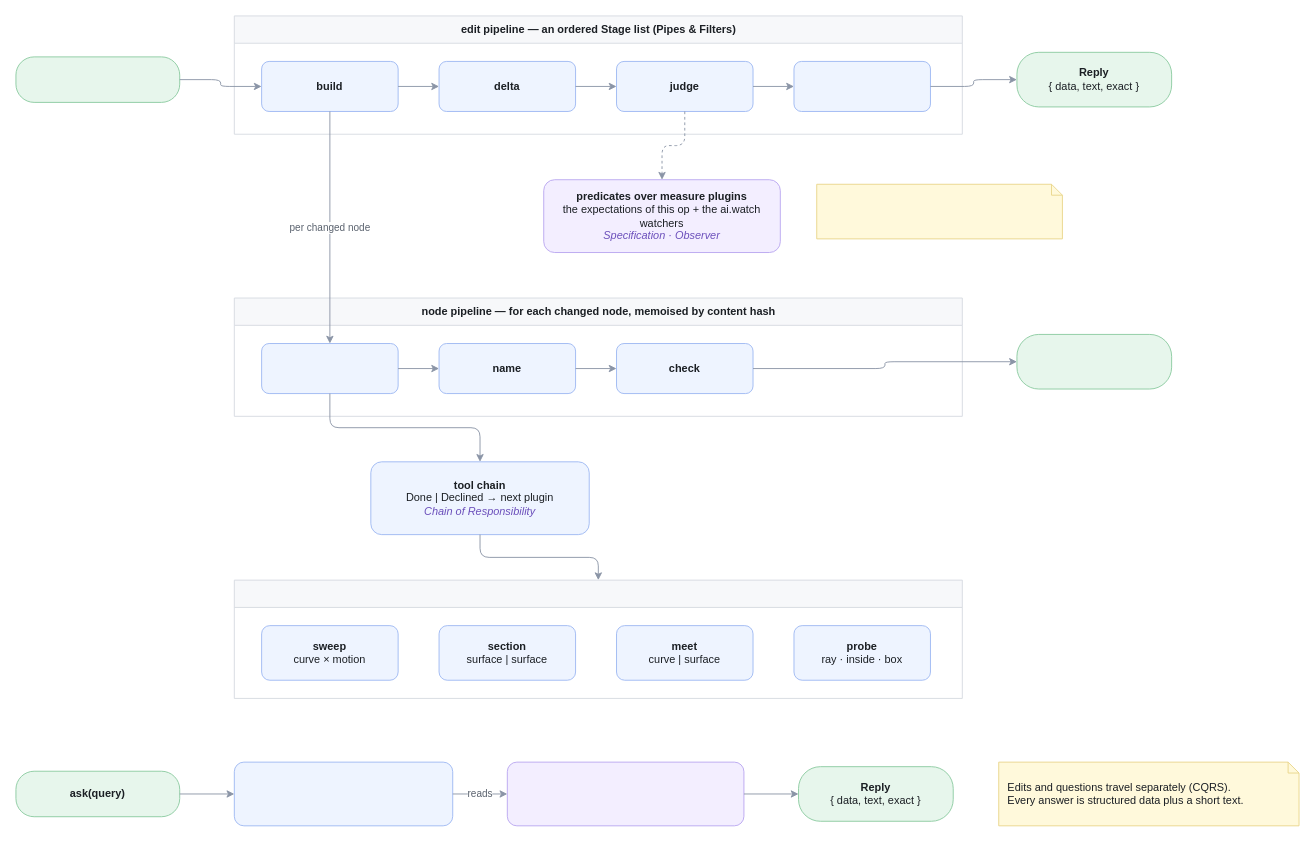
Some shapes in this 1315 by 842 pixel diagram are drawn without their labels. The shapes that lost their labels are listed below. From the top down, each one's box as (x1, y1, x2, y2) in pixels, then its label:
(15, 56, 180, 102): apply(op, dry?, expect?)
(793, 61, 930, 111): commit
(816, 183, 1062, 239): commit is skipped when the call is a dry run or an expectation fails
(261, 343, 398, 394): run
(1016, 334, 1172, 389): Body faces carry computed names
(233, 579, 962, 698): rule registries — pairwise knowledge lives only here (Double dispatch)
(233, 761, 453, 826): query plugin faces · here · ray · find · measure …
(506, 761, 744, 826): Model · index (K, R) · probe derived state, refreshed by revision
